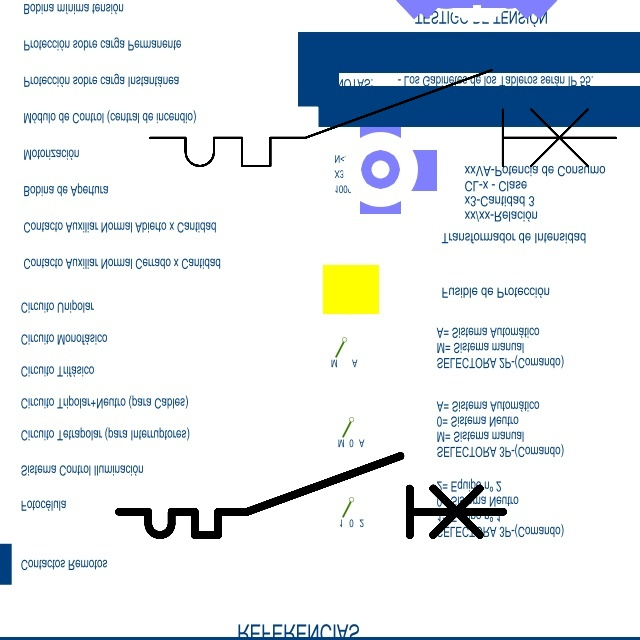interruptor_termomagnetico: (138, 58, 628, 178), (109, 446, 513, 545)
